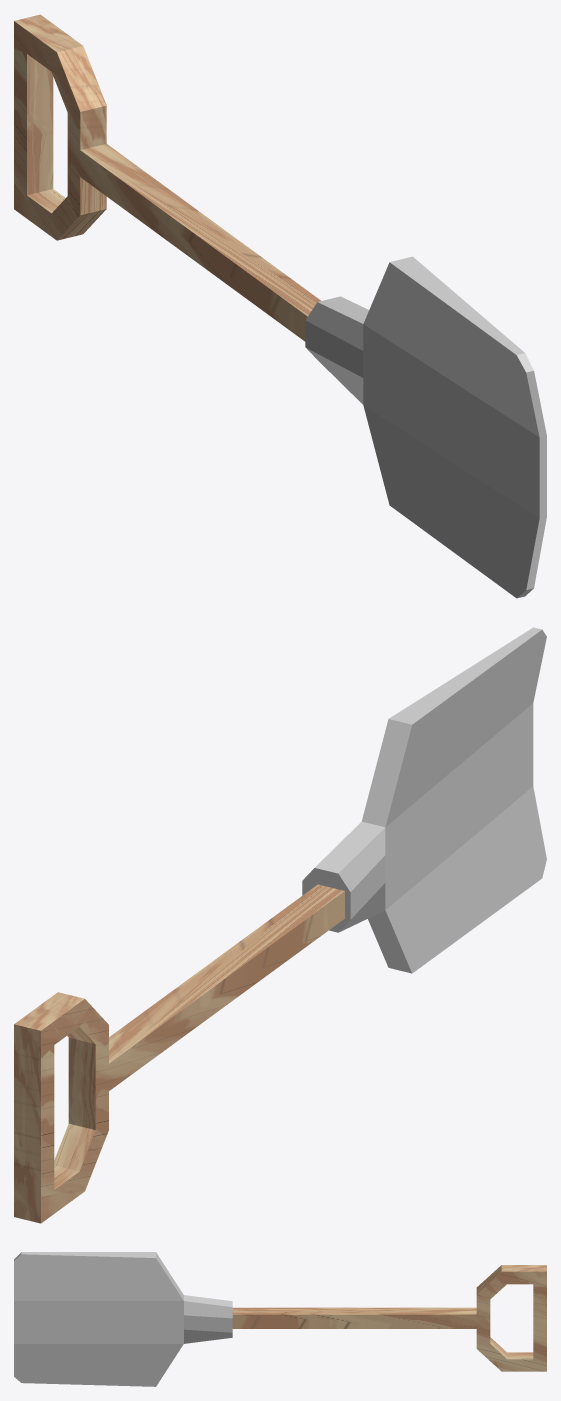
Rendered from schaufelGLTF.gltf.
3 views of the same model, one above another, from view 1: azimuth 30°, elevation 25°; view 2: azimuth 150°, elevation 25°; view 3: azimuth 270°, elevation 25° (orthographic). The views are drawn at different scales.
Visible parts, largest first — view 1: schaufel.001, stange; view 2: schaufel.001, stange; view 3: schaufel.001, stange.
Boxes of the visible parts, <box> form: schaufel.001: <box>305,256,546,598</box>; stange: <box>14,14,320,341</box>; schaufel.001: <box>302,627,546,973</box>; stange: <box>14,884,344,1223</box>; schaufel.001: <box>14,1252,232,1386</box>; stange: <box>232,1265,546,1371</box>.
Size of the model in its own units: 0.4045 by 2 by 7.5.
2 materials, 1 textured.
